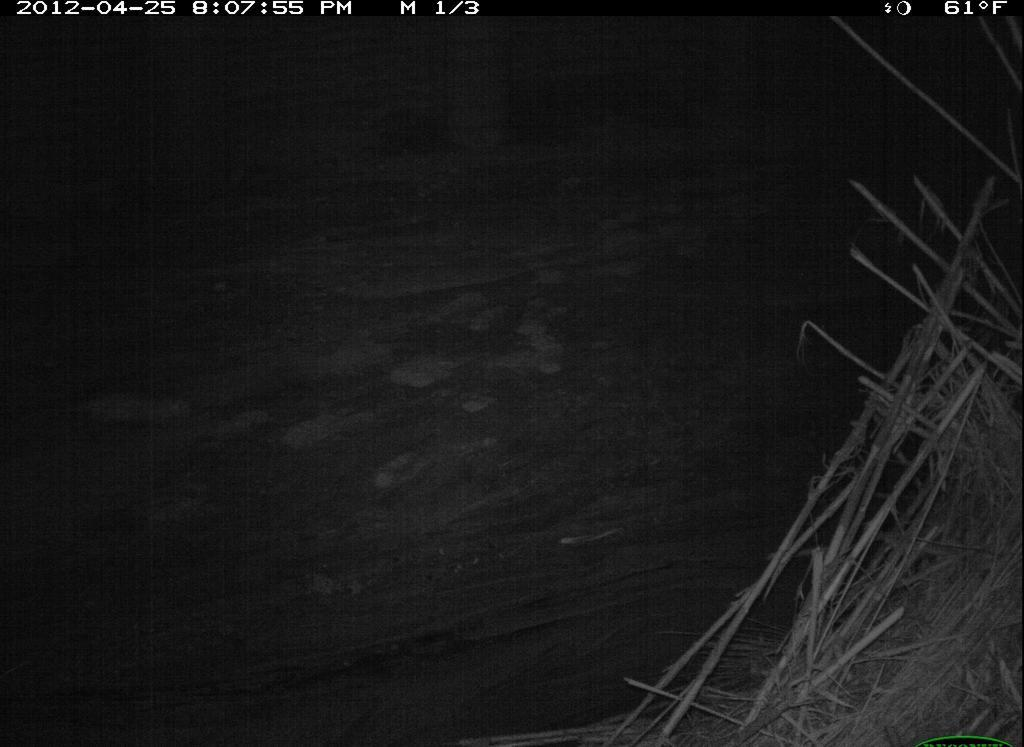opossum: (38, 382, 203, 441)
